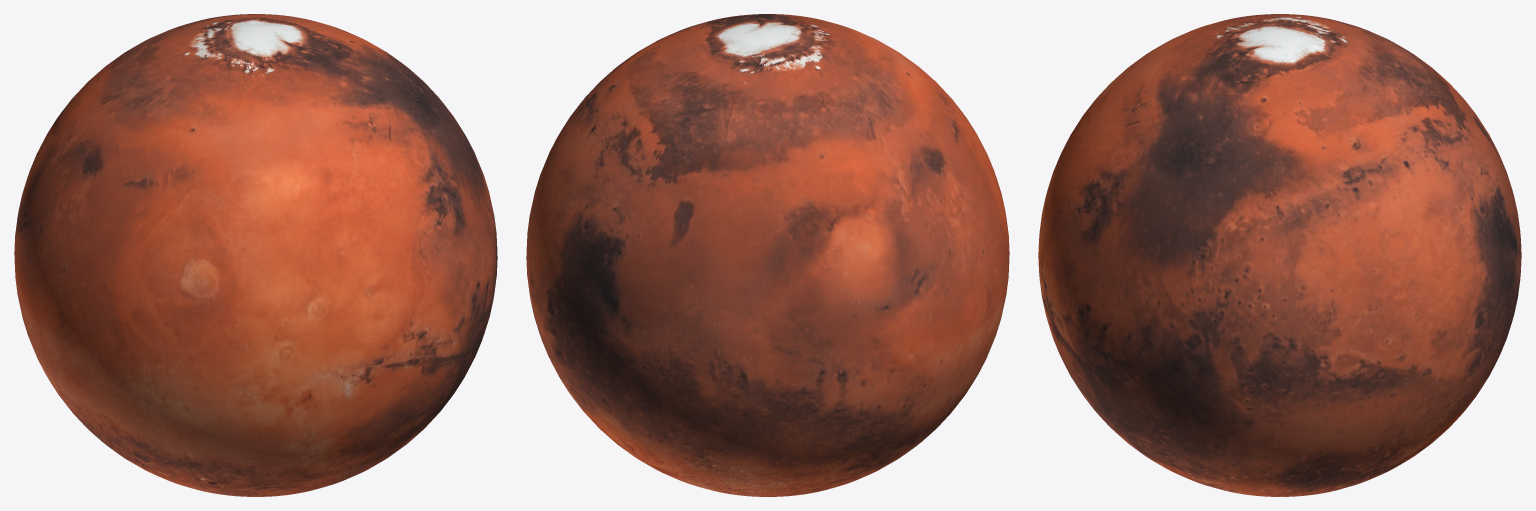
File: planeta_naranja.obj
The picture shows the model from 3 angles, left to right: view 1: azimuth 30°, elevation 25°; view 2: azimuth 150°, elevation 25°; view 3: azimuth 270°, elevation 25°; orthographic projection.
Parts seen in each view (by area): view 1: planeta_naranja; view 2: planeta_naranja; view 3: planeta_naranja.
Part boxes in pixels (x1=…): planeta_naranja: x1=14, y1=14, x2=497, y2=496; planeta_naranja: x1=526, y1=14, x2=1009, y2=496; planeta_naranja: x1=1038, y1=14, x2=1521, y2=496.
Size of the model in its own units: 2 by 2 by 2.
1 material, 1 textured.
